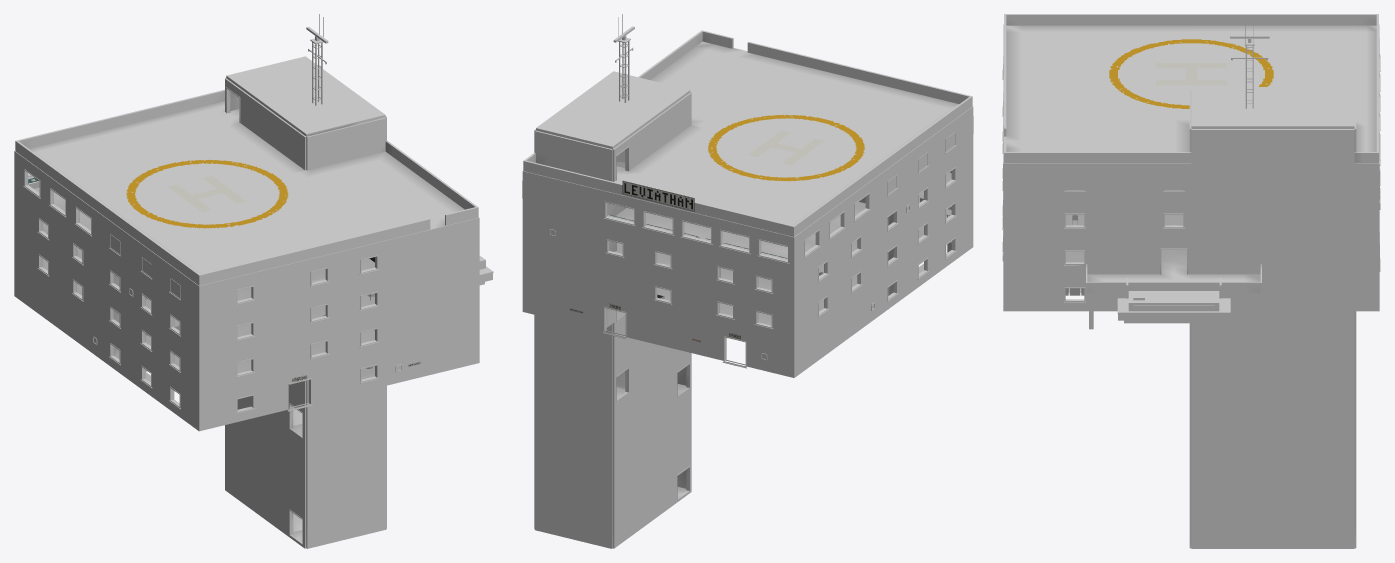
The model's file is bridge_tower.glb.
The picture shows the model from 3 angles, left to right: view 1: azimuth 30°, elevation 25°; view 2: azimuth 150°, elevation 25°; view 3: azimuth 270°, elevation 25°; orthographic projection. The views are drawn at different scales.
Visible parts, largest first — view 1: bridge_tower; view 2: bridge_tower; view 3: bridge_tower.
Part boxes in pixels (x1,y1,x2,y2): bridge_tower: (14,14,493,548); bridge_tower: (522,14,973,548); bridge_tower: (1002,14,1380,548).
Bounding box in the file's own units: 35.48 × 48.36 × 32.5.
3 materials, 2 textured.
